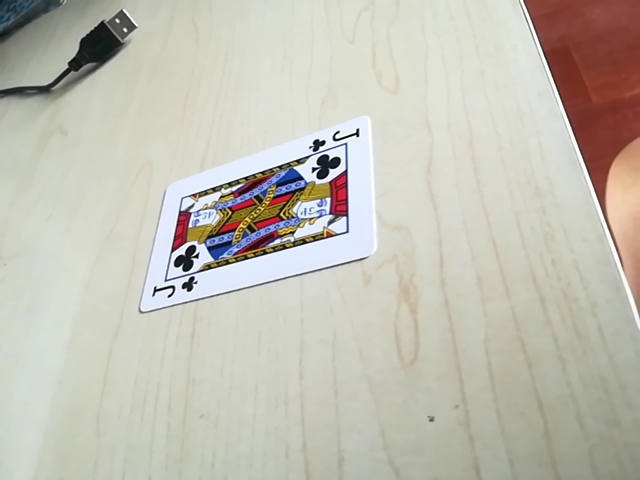mh j: (146, 275, 197, 308), (307, 128, 362, 157)
